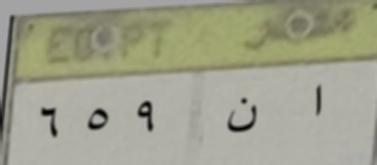5: (84, 104, 114, 137)
6: (36, 100, 63, 146)
9: (134, 98, 158, 144)
alif: (304, 76, 328, 124)
noon: (221, 95, 263, 136)
